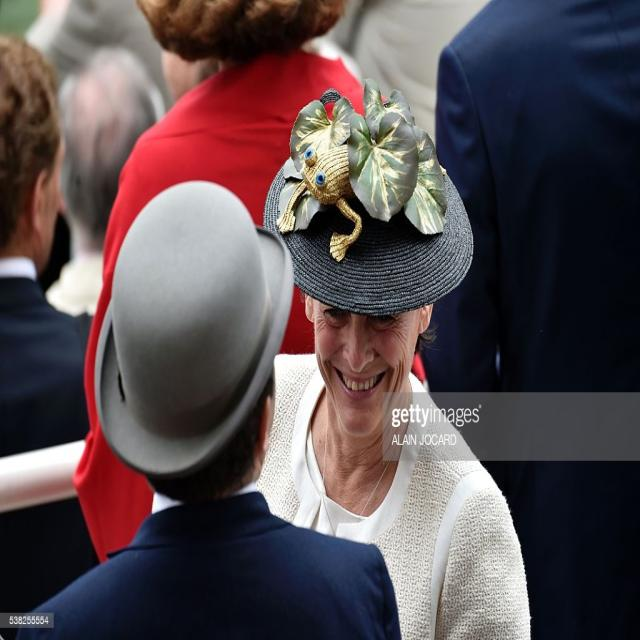hat: (262, 113, 472, 434), (91, 191, 280, 488)
head: (0, 34, 64, 276)
